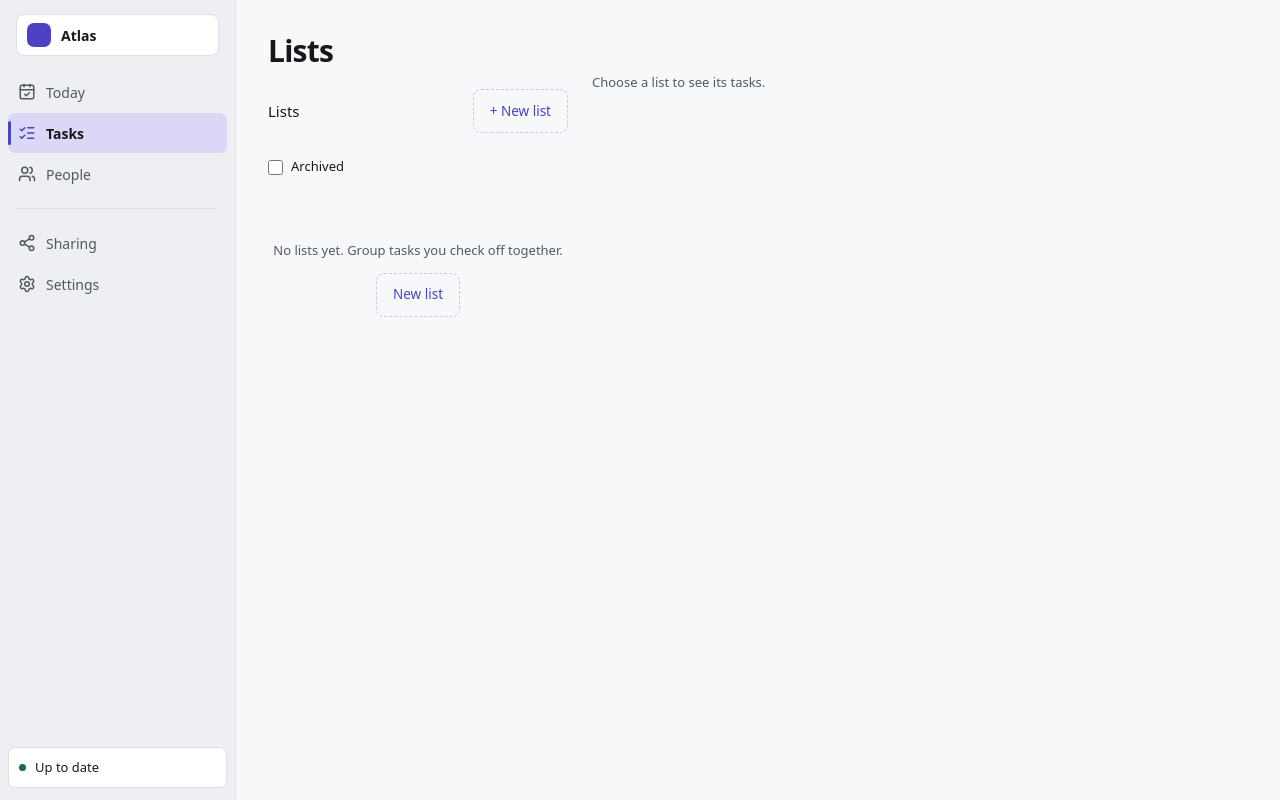
Scenario: R1: create, an answer that may hide a stored save › lost-after-commit, unchanged retry: looked up, found as sent; one list, nothing sent again, the dialog goes to it
The width and height of the screenshot is (1280, 800).
Click the button "+ New list" at coordinates (520, 111), box top-left (473, 89), bottom-right (568, 133)
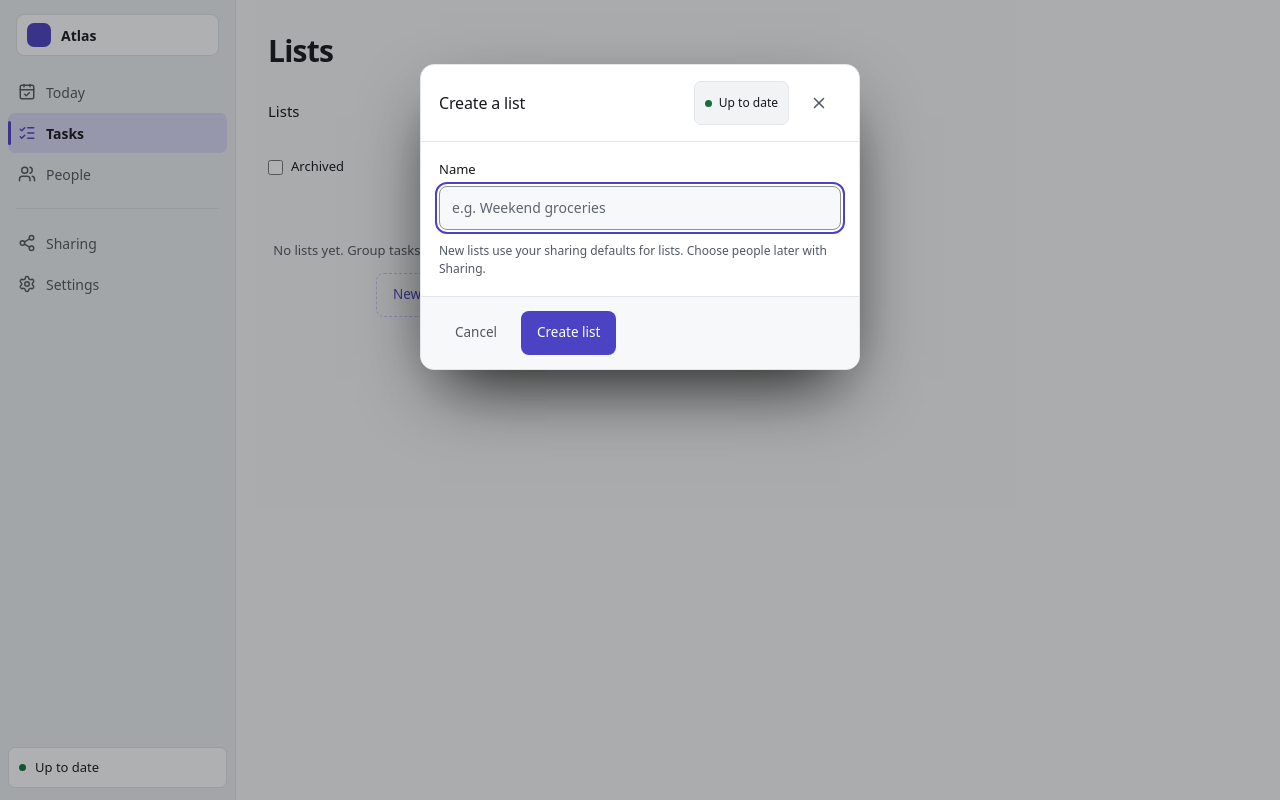
Type "Original name" into the field labelled "Name" at coordinates (640, 208), box top-left (439, 186), bottom-right (841, 230)
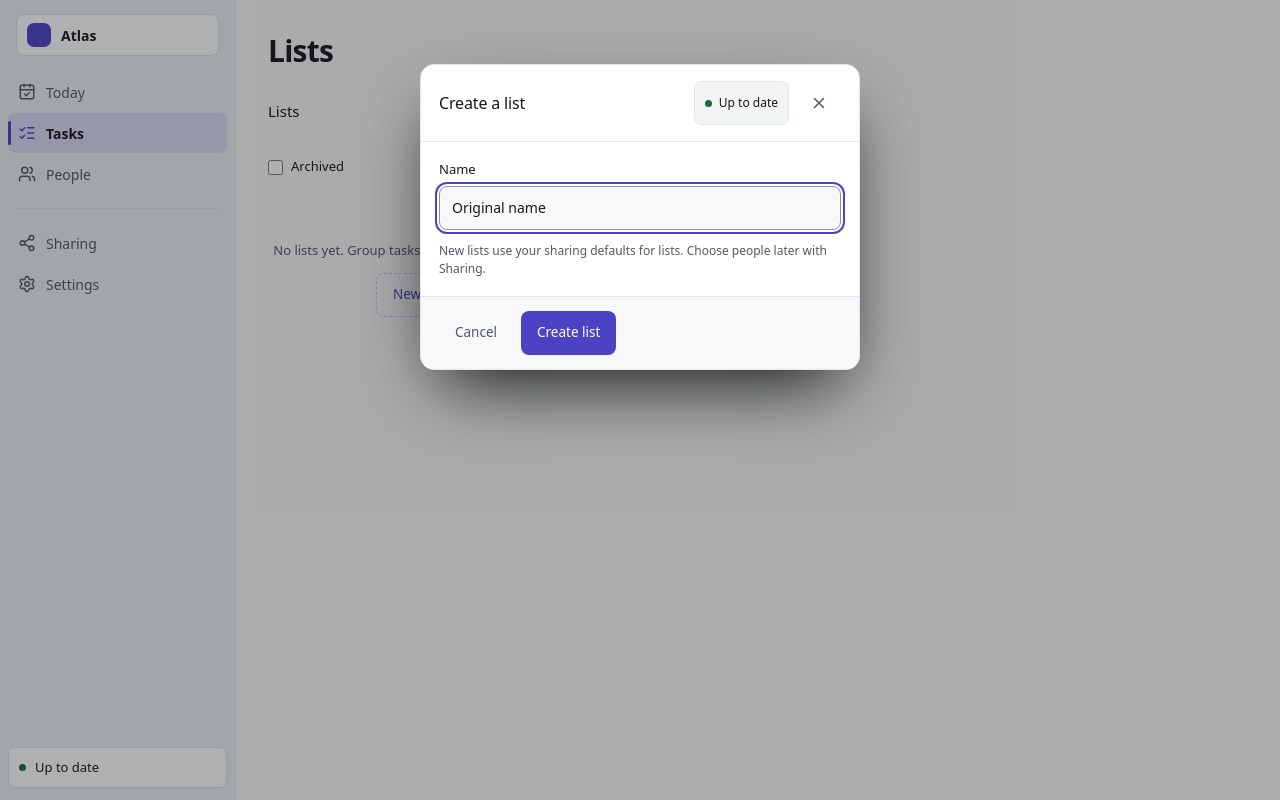
Expected: the button "Create list" is shown
Click the button "Create list" at coordinates (569, 332), box top-left (521, 310), bottom-right (616, 354)
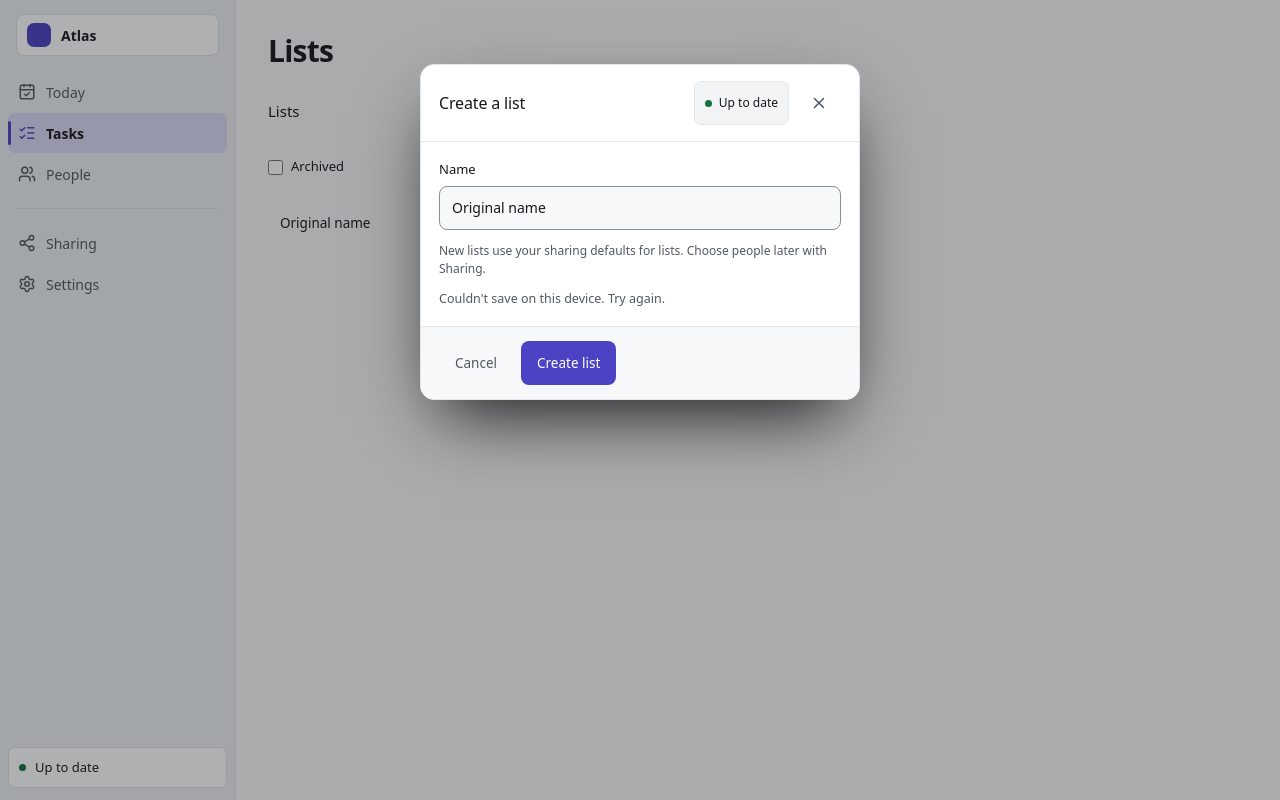
Expected: the dialog is shown, top-left (420, 64), bottom-right (860, 400)
Expected: the button "Create list" is shown
Click the button "Create list" at coordinates (569, 363), box top-left (521, 341), bottom-right (616, 385)
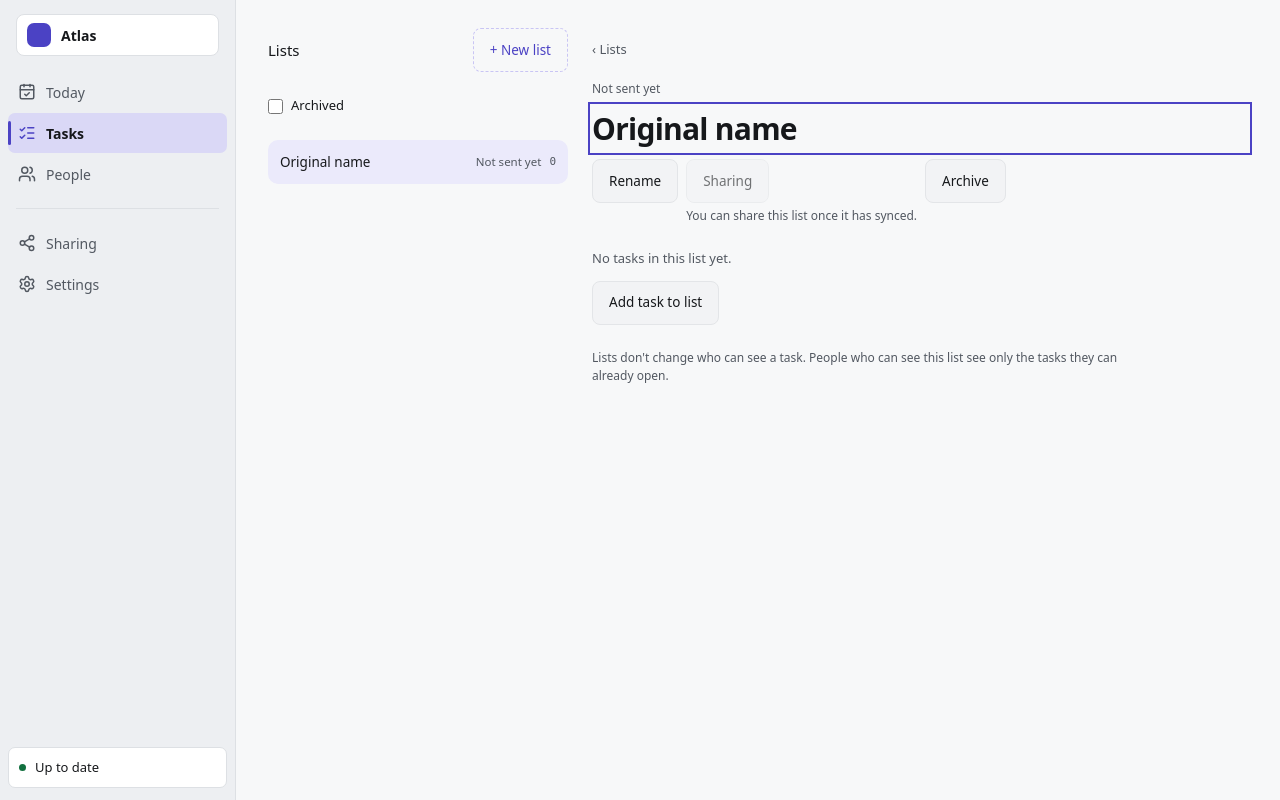
Expected: the dialog is gone
